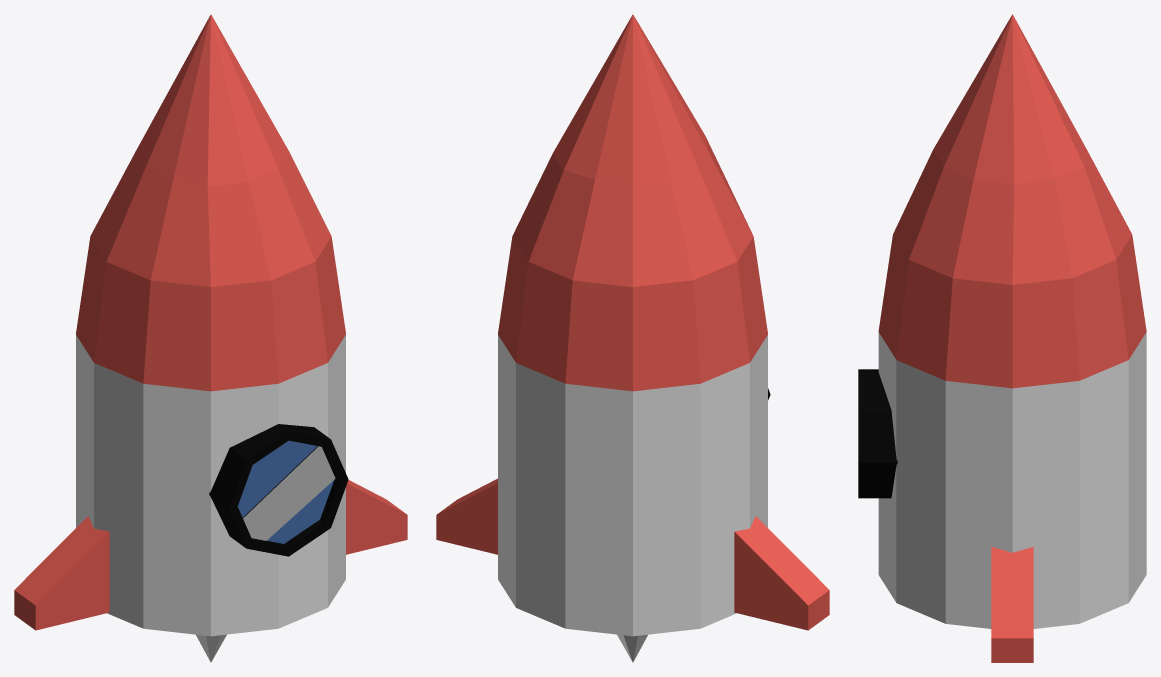
The model's file is Rocket.fbx.
3 renders of one model, left to right at view 1: azimuth 30°, elevation 25°; view 2: azimuth 150°, elevation 25°; view 3: azimuth 270°, elevation 25°, orthographic.
Parts seen in each view (by area): view 1: Rocket, Cylinder.001, Cube; view 2: Rocket, Cube; view 3: Rocket, Cube, Cylinder.001.
Boxes of the visible parts, <box> form: Rocket: <box>76,14,345,636</box>; Cylinder.001: <box>209,424,348,556</box>; Cube: <box>14,480,407,630</box>; Rocket: <box>498,14,767,636</box>; Cube: <box>436,478,829,630</box>; Rocket: <box>878,14,1146,628</box>; Cube: <box>991,547,1033,662</box>; Cylinder.001: <box>858,369,897,498</box>.
Bounding box in the file's own units: 3.18 × 5.3 × 2.15.
